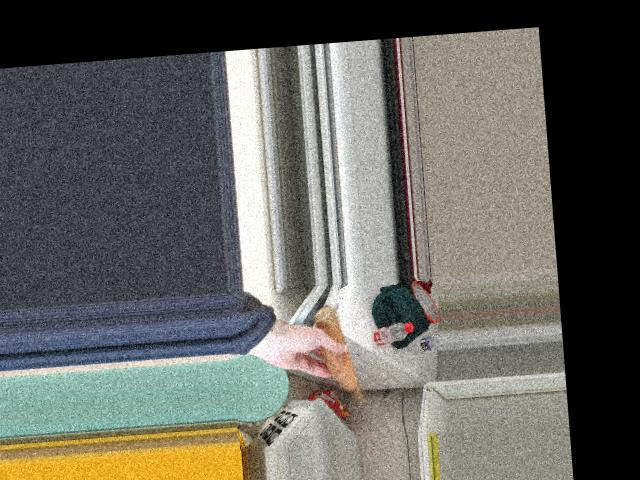sweet_potato: (310, 309, 368, 403)
